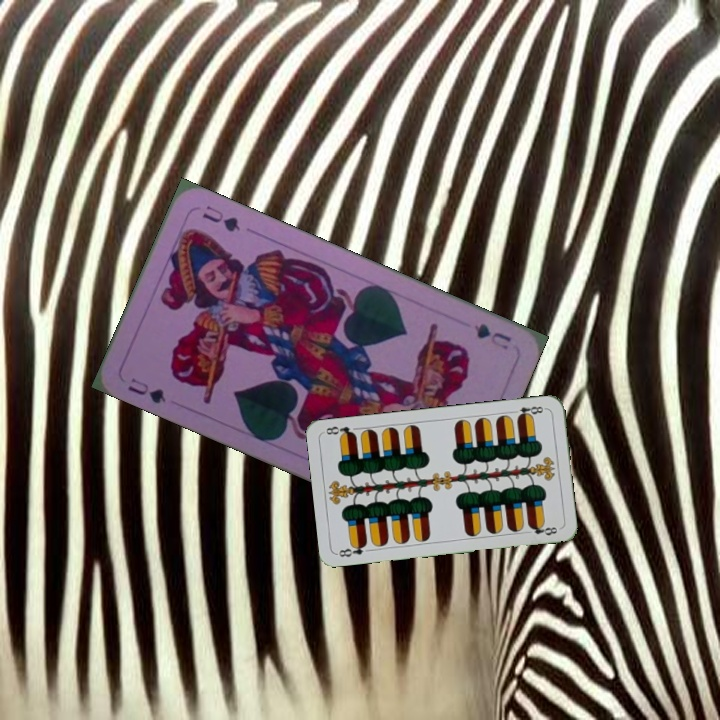E8: (508, 402, 548, 421), (334, 539, 370, 560)
GU: (123, 373, 169, 406), (470, 319, 514, 353)
